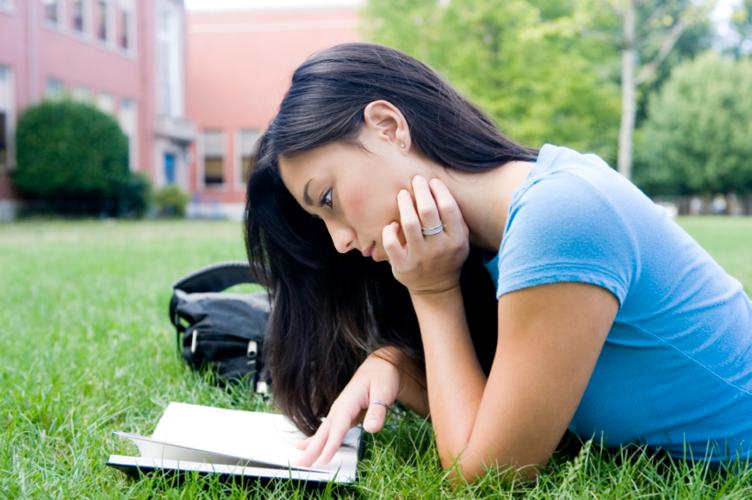person: (243, 47, 752, 485)
